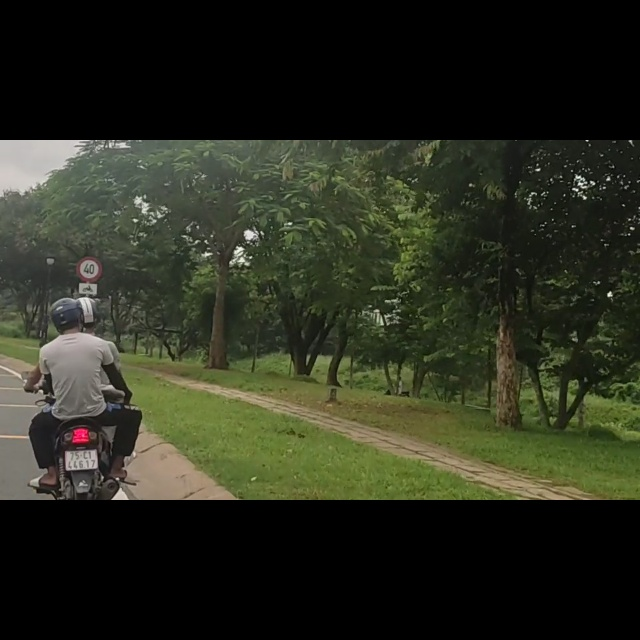Tốc độ tối đa cho phép 40km/h: (76, 256, 103, 283)
